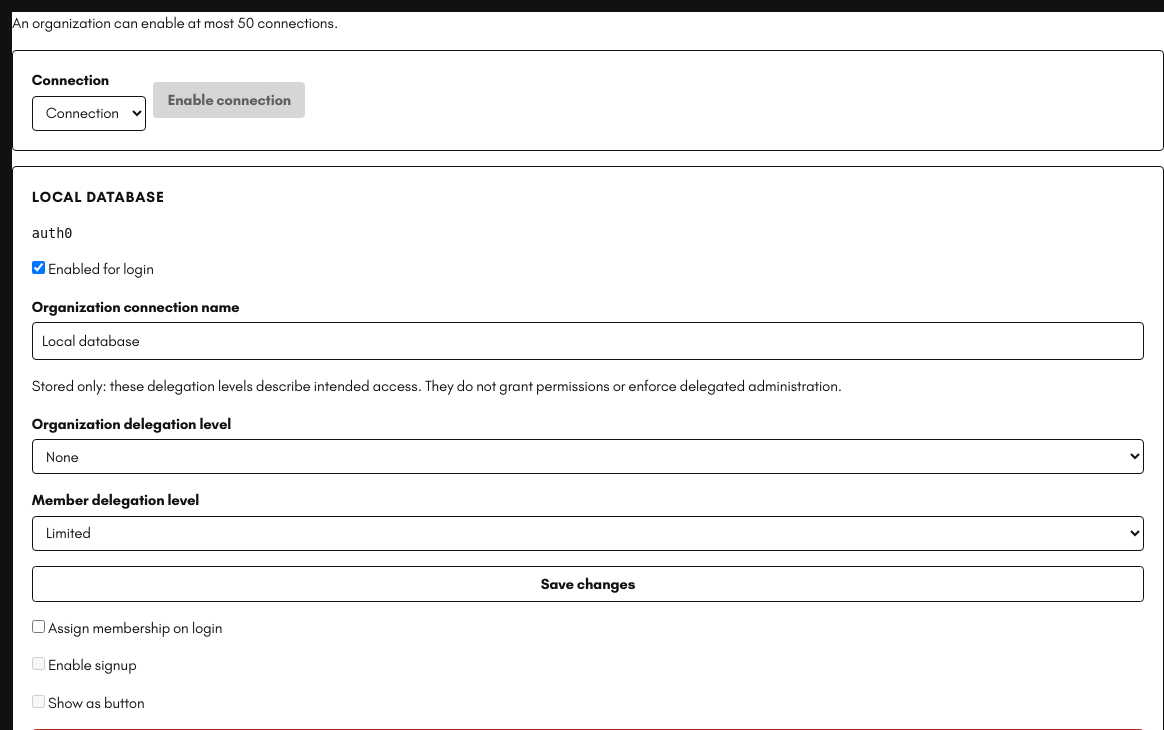
Scenario: clears an organization connection name with null and restores its underlying name
The width and height of the screenshot is (1164, 730).
Clear the field with id "connection-name-db" at (588, 341), box [32, 322, 1144, 360]
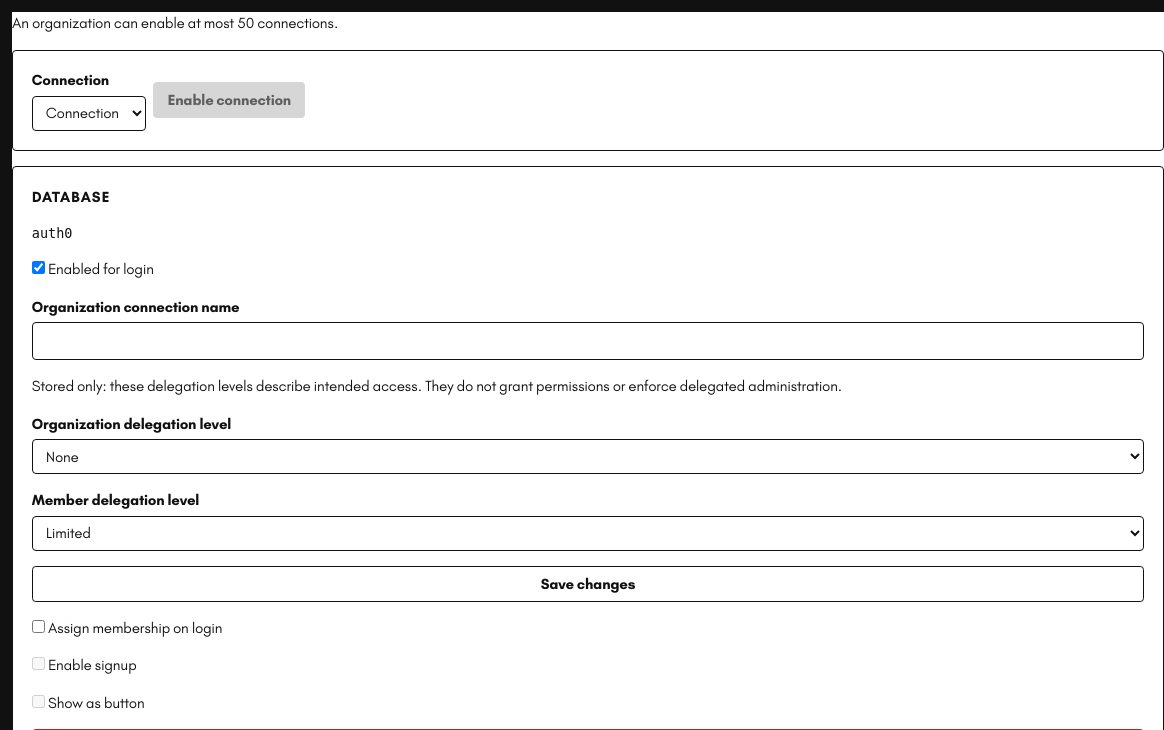
Click the button "Save changes" at (588, 584), box [32, 566, 1144, 602]
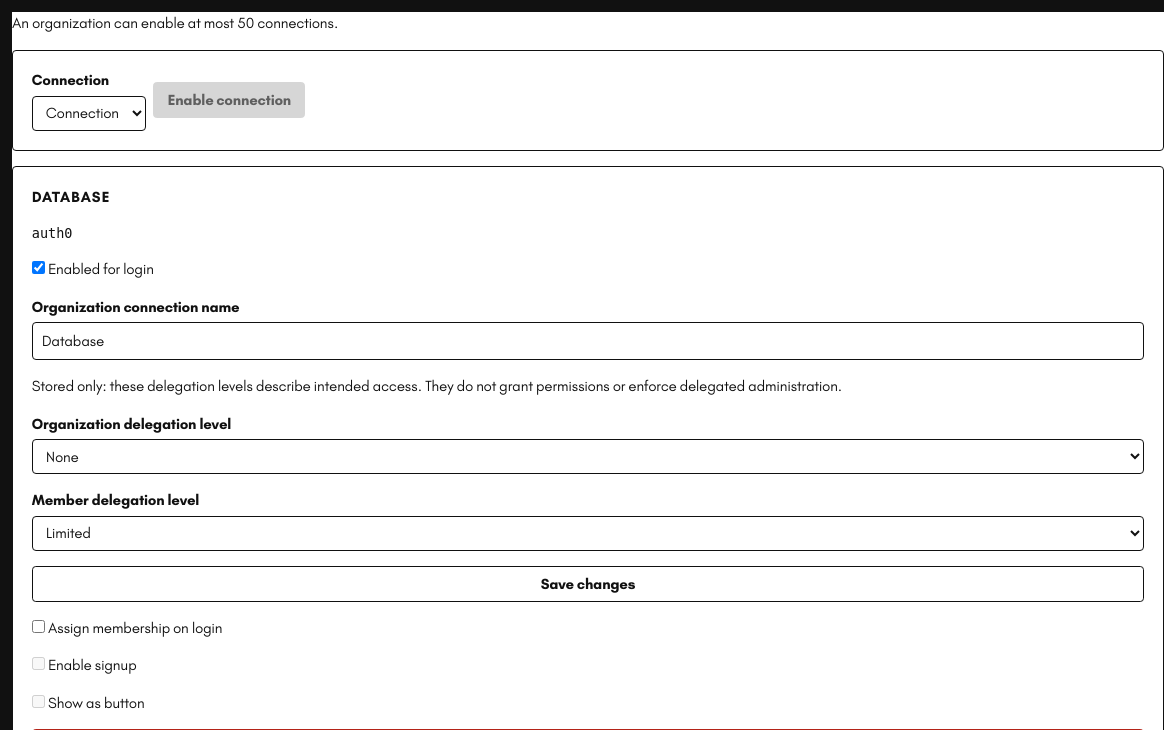
Expected: the heading "Database" is shown, [32, 188, 110, 206]
Expected: the field with id "connection-name-db" holds "Database", [32, 322, 1144, 360]
